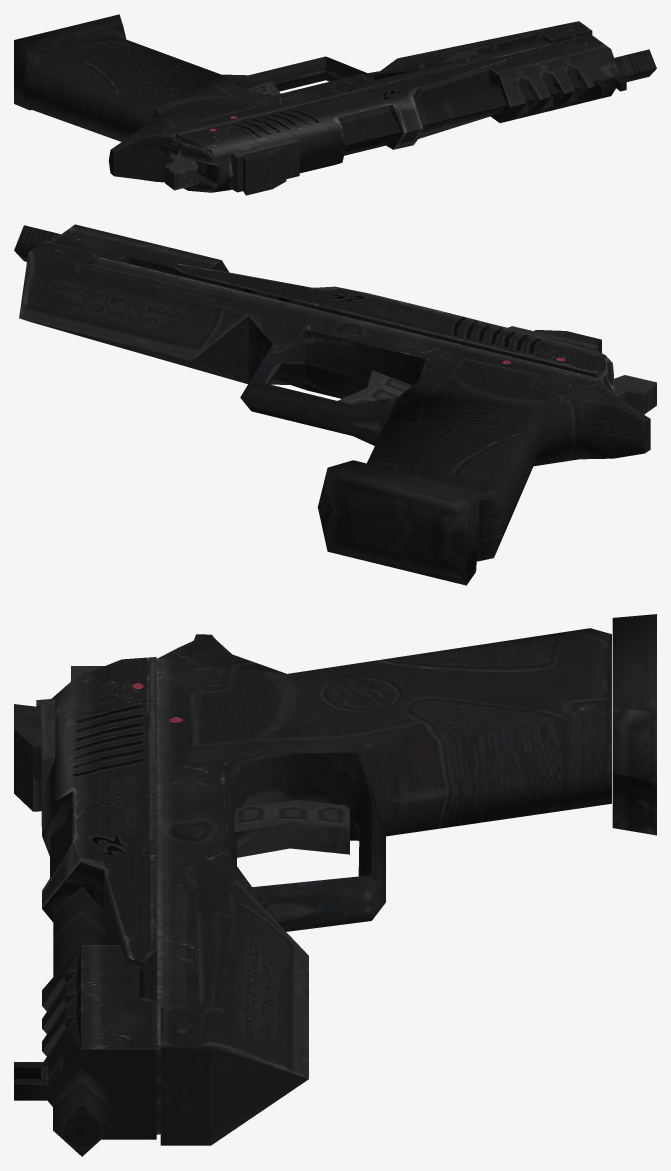
Rendered from t6_wpn_pistol_b2023r_world_LOD1.obj.
The picture shows the model from 3 angles, top to bottom: view 1: azimuth 30°, elevation 25°; view 2: azimuth 150°, elevation 25°; view 3: azimuth 270°, elevation 25°; orthographic projection. The views are drawn at different scales.
Parts seen in each view (by area): view 1: mtl_t6_wpn_pistol_b2023r, mtl_t6_wpn_pistol_b2023r_camo1, mtl_t6_wpn_pistol_b2023r_camo3, mtl_t6_wpn_pistol_b2023r_camo2; view 2: mtl_t6_wpn_pistol_b2023r, mtl_t6_wpn_pistol_b2023r_camo3, mtl_t6_wpn_pistol_b2023r_camo2, mtl_t6_wpn_pistol_b2023r_camo1; view 3: mtl_t6_wpn_pistol_b2023r, mtl_t6_wpn_pistol_b2023r_camo2, mtl_t6_wpn_pistol_b2023r_camo3, mtl_t6_wpn_pistol_b2023r_camo1.
Part boxes in pixels (x1=…): mtl_t6_wpn_pistol_b2023r: x1=22, y1=21, x2=626, y2=195; mtl_t6_wpn_pistol_b2023r_camo1: x1=167, y1=49, x2=620, y2=192; mtl_t6_wpn_pistol_b2023r_camo3: x1=14, y1=14, x2=656, y2=152; mtl_t6_wpn_pistol_b2023r_camo2: x1=177, y1=34, x2=610, y2=150; mtl_t6_wpn_pistol_b2023r: x1=19, y1=240, x2=656, y2=561; mtl_t6_wpn_pistol_b2023r_camo3: x1=14, y1=225, x2=478, y2=585; mtl_t6_wpn_pistol_b2023r_camo2: x1=52, y1=224, x2=605, y2=373; mtl_t6_wpn_pistol_b2023r_camo1: x1=99, y1=255, x2=614, y2=391; mtl_t6_wpn_pistol_b2023r: x1=14, y1=628, x2=611, y2=1145; mtl_t6_wpn_pistol_b2023r_camo2: x1=75, y1=657, x2=156, y2=1049; mtl_t6_wpn_pistol_b2023r_camo3: x1=50, y1=614, x2=656, y2=1156; mtl_t6_wpn_pistol_b2023r_camo1: x1=42, y1=678, x2=156, y2=1139.
Bounding box in the file's own units: 29.47 × 3.55 × 16.9.
